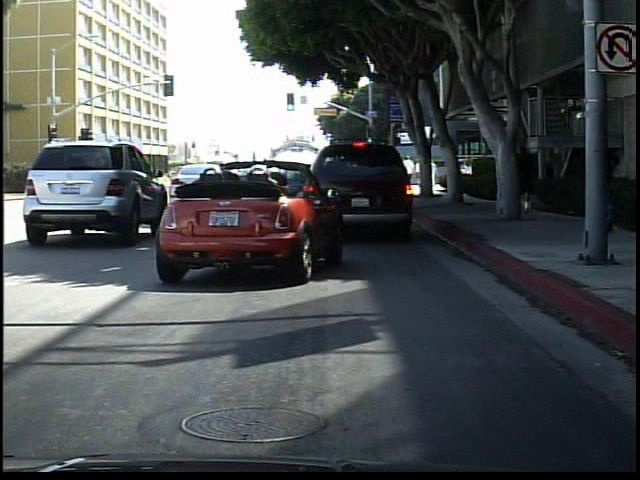person: (578, 132, 623, 240), (524, 143, 537, 217)
